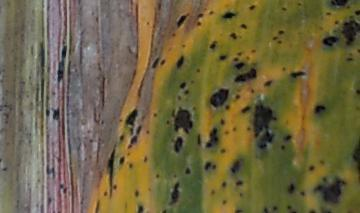tarspot: (254, 104, 276, 149), (314, 177, 347, 204), (172, 107, 193, 133), (342, 21, 360, 45), (107, 149, 116, 196), (56, 46, 67, 82), (351, 138, 360, 178), (211, 88, 229, 107), (234, 69, 256, 81), (206, 126, 217, 149), (170, 182, 180, 206), (126, 108, 137, 125), (323, 36, 339, 46), (174, 136, 183, 153), (45, 164, 55, 179), (330, 1, 348, 9), (177, 15, 187, 28), (230, 160, 240, 173), (290, 71, 306, 79), (222, 12, 237, 19), (315, 105, 326, 114), (177, 56, 184, 69), (52, 108, 60, 118), (287, 183, 295, 193), (234, 62, 245, 69), (209, 41, 218, 49), (196, 133, 202, 145), (153, 57, 160, 67), (135, 124, 142, 134), (285, 134, 293, 142), (184, 167, 192, 175), (241, 106, 250, 113), (263, 81, 273, 87), (95, 199, 99, 213), (130, 136, 137, 144), (240, 23, 248, 30), (230, 32, 237, 40), (204, 162, 211, 170), (345, 56, 354, 62), (44, 109, 51, 116), (219, 147, 226, 154), (219, 54, 227, 60), (298, 190, 306, 196), (234, 208, 243, 213), (119, 157, 125, 164), (179, 82, 186, 88), (197, 13, 204, 19), (249, 4, 255, 11), (281, 6, 288, 12), (318, 159, 325, 165), (237, 191, 244, 197), (134, 189, 139, 197), (138, 205, 143, 213), (160, 59, 166, 65), (184, 89, 190, 95), (196, 20, 202, 26), (251, 48, 257, 54), (354, 10, 360, 16), (221, 199, 227, 205), (143, 155, 148, 162), (208, 10, 215, 15), (250, 87, 255, 94), (278, 29, 285, 34), (232, 125, 237, 132), (224, 129, 229, 136), (236, 181, 243, 186), (47, 196, 52, 203), (1, 167, 8, 172), (103, 190, 108, 196), (145, 129, 150, 135), (152, 112, 158, 117), (177, 95, 182, 101), (233, 57, 239, 62), (220, 119, 225, 125), (212, 164, 217, 170), (235, 94, 241, 99), (272, 35, 278, 40), (277, 39, 282, 45), (282, 66, 287, 72), (309, 165, 314, 171), (334, 20, 340, 25), (287, 204, 292, 210), (273, 206, 279, 211), (264, 207, 269, 213), (210, 189, 216, 194), (325, 12, 332, 16), (63, 188, 68, 193), (196, 68, 201, 73), (246, 126, 251, 131), (190, 79, 195, 84), (155, 173, 160, 178), (162, 208, 167, 213), (113, 184, 117, 190), (120, 135, 124, 141), (127, 144, 133, 148), (166, 119, 170, 125), (356, 89, 360, 95), (222, 181, 226, 187), (131, 128, 134, 135), (60, 184, 64, 189), (237, 52, 242, 56), (225, 105, 230, 109), (246, 55, 250, 60), (172, 32, 176, 37), (297, 2, 302, 6), (281, 145, 285, 150), (173, 174, 178, 178), (182, 44, 186, 48), (130, 164, 133, 168), (357, 48, 360, 52)
